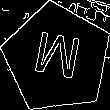M_S: (30, 29, 84, 88)
